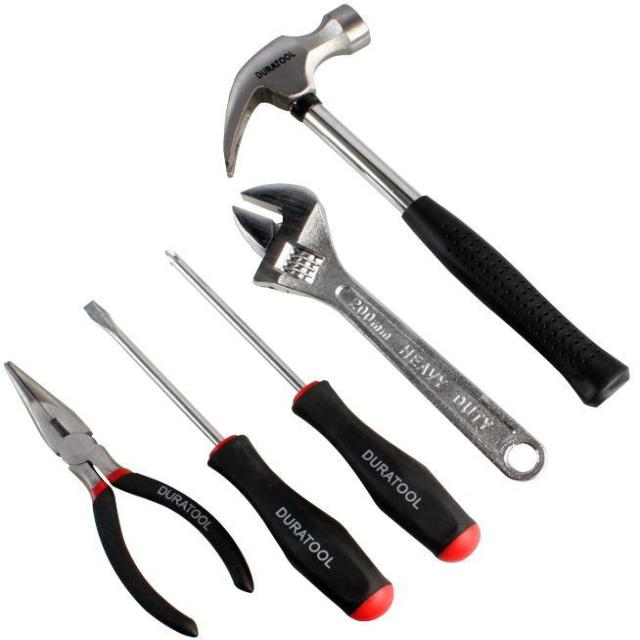Screwdriver: (84, 301, 394, 621), (169, 252, 480, 562)
